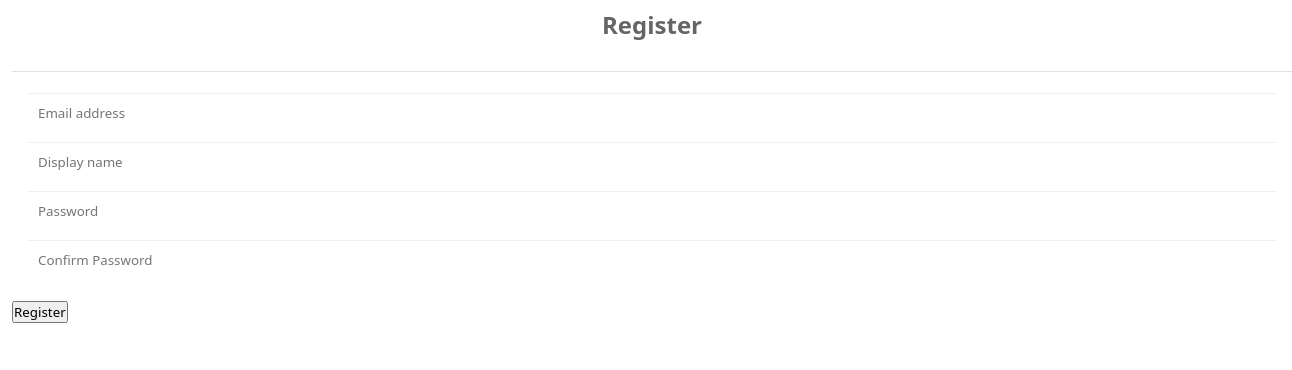
Test case: <Register /> › should show danger on change for invalid email
Type "Changed" into the field with placeholder "Email address". click: x=652, y=112
box: top-left (28, 93), bottom-right (1276, 132)
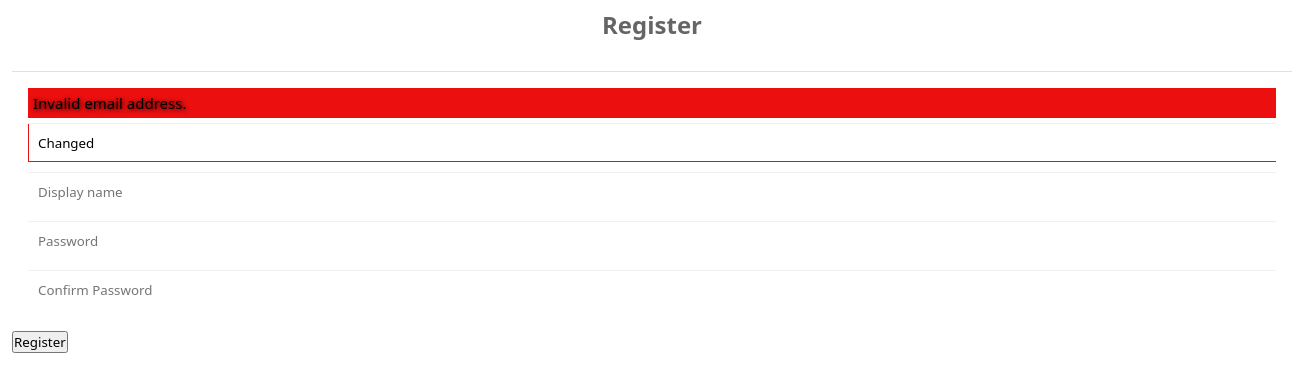
Check: the text with class "error" reads "Invalid email address.", box top-left (33, 93), bottom-right (186, 113)
